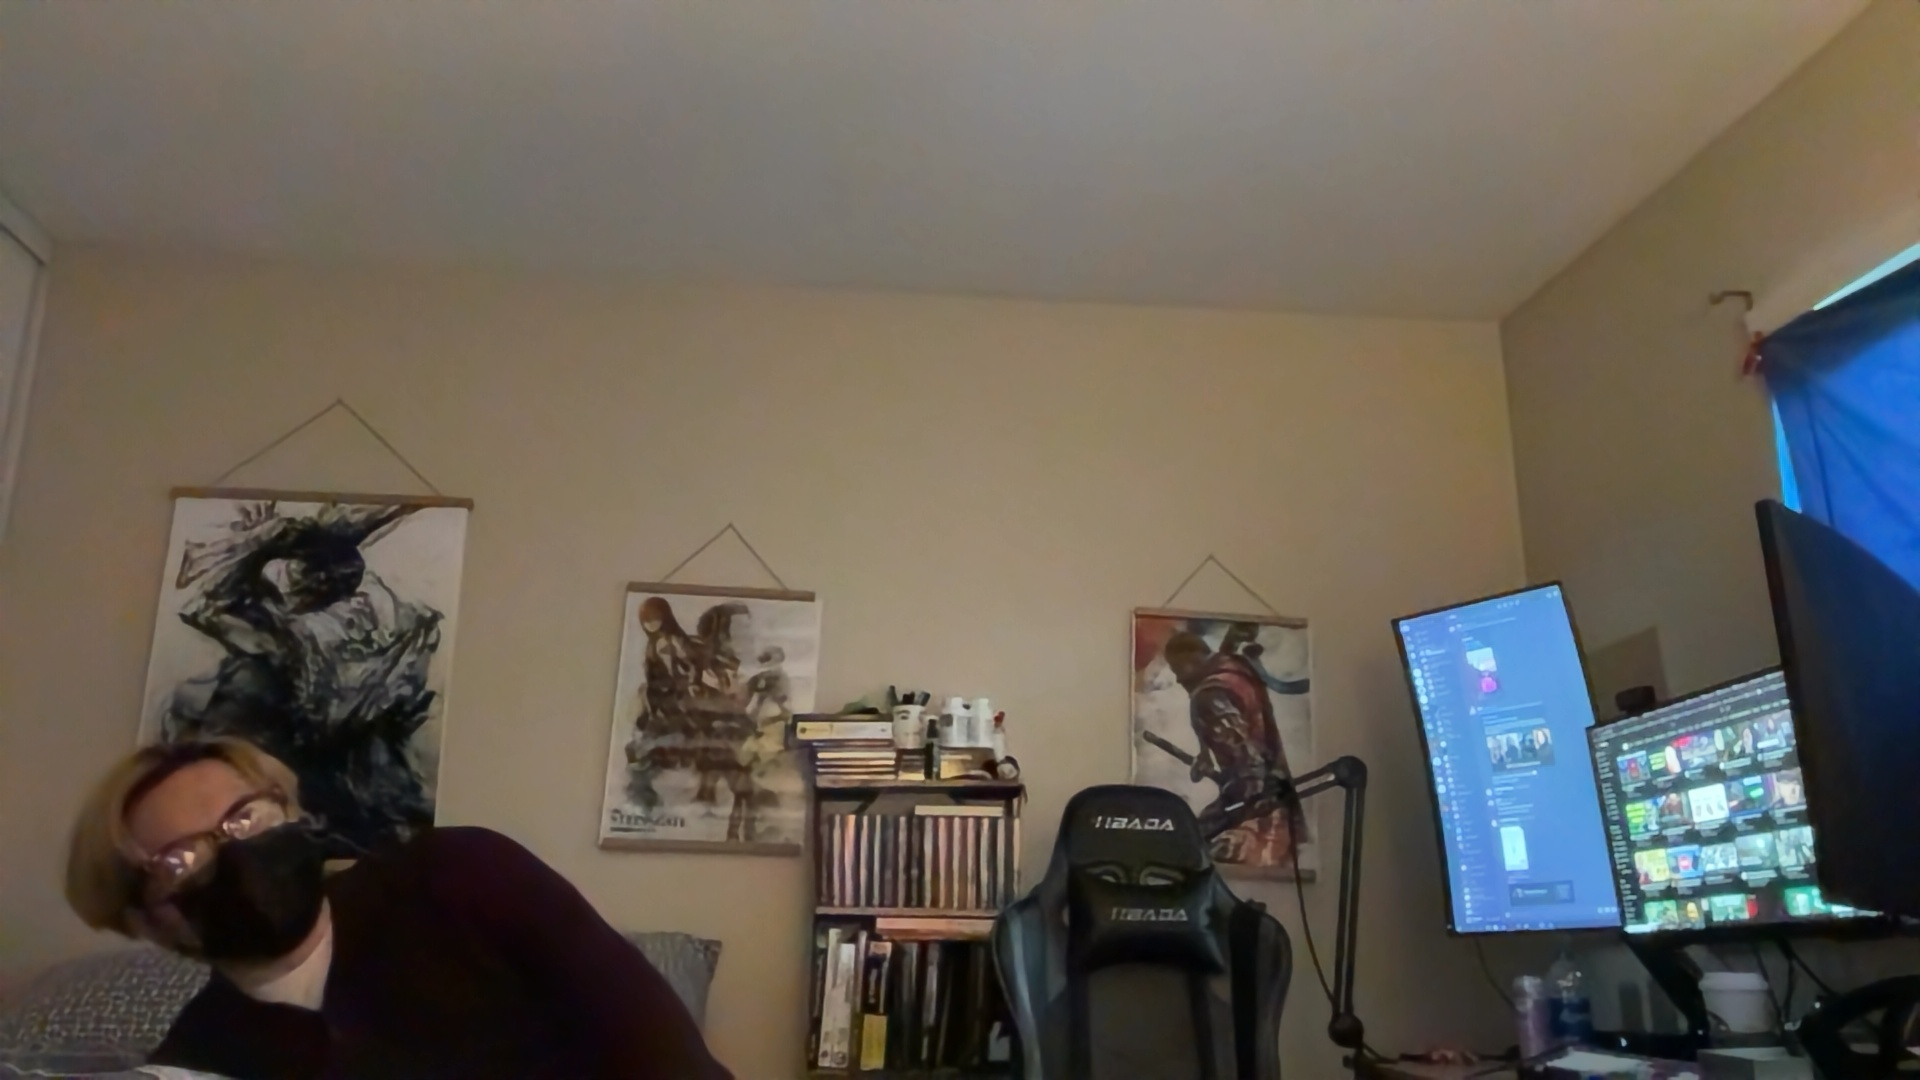glasses: (121, 783, 298, 899)
masked: (120, 774, 326, 960)
